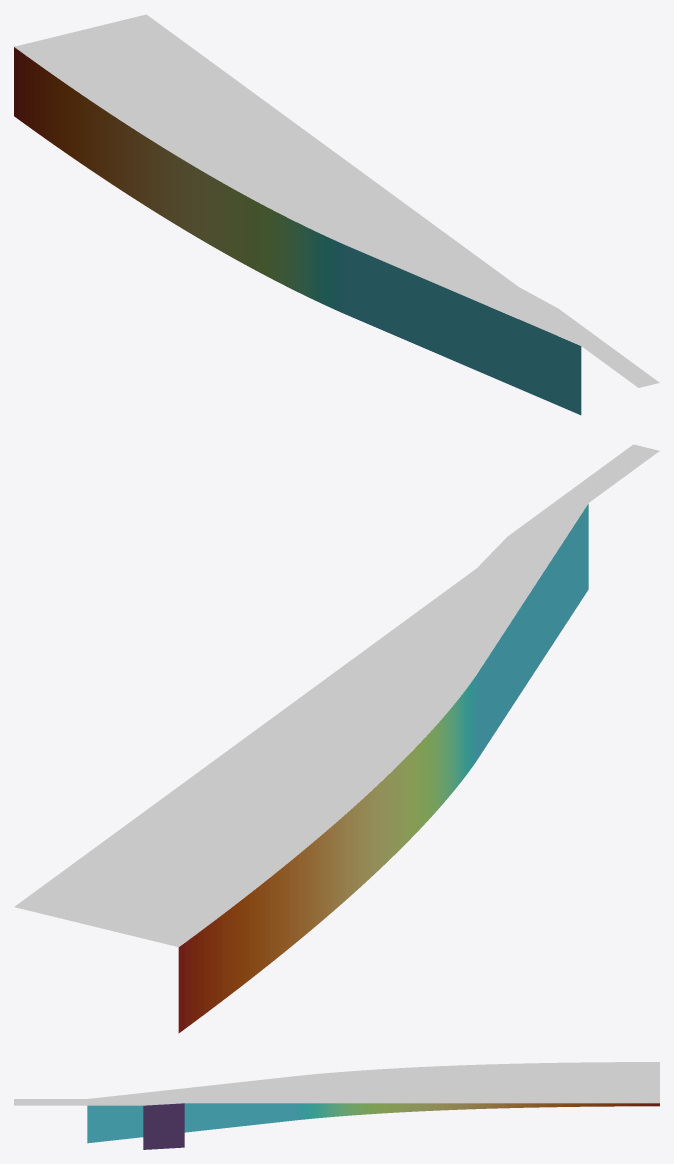
Rendered from scramjet_n100_m2.glb.
The picture shows the model from 3 angles, top to bottom: view 1: azimuth 30°, elevation 25°; view 2: azimuth 150°, elevation 25°; view 3: azimuth 270°, elevation 25°; orthographic projection. The views are drawn at different scales.
Parts seen in each view (by area): view 1: Renderer Node; view 2: Renderer Node; view 3: Renderer Node.
Boxes of the visible parts, left/top/right/bottom form: Renderer Node: left=14, top=14, right=659, bottom=415; Renderer Node: left=14, top=444, right=659, bottom=1033; Renderer Node: left=14, top=1062, right=659, bottom=1149.
Bounding box in the file's own units: 1.06 × 0.5006 × 6.61.
